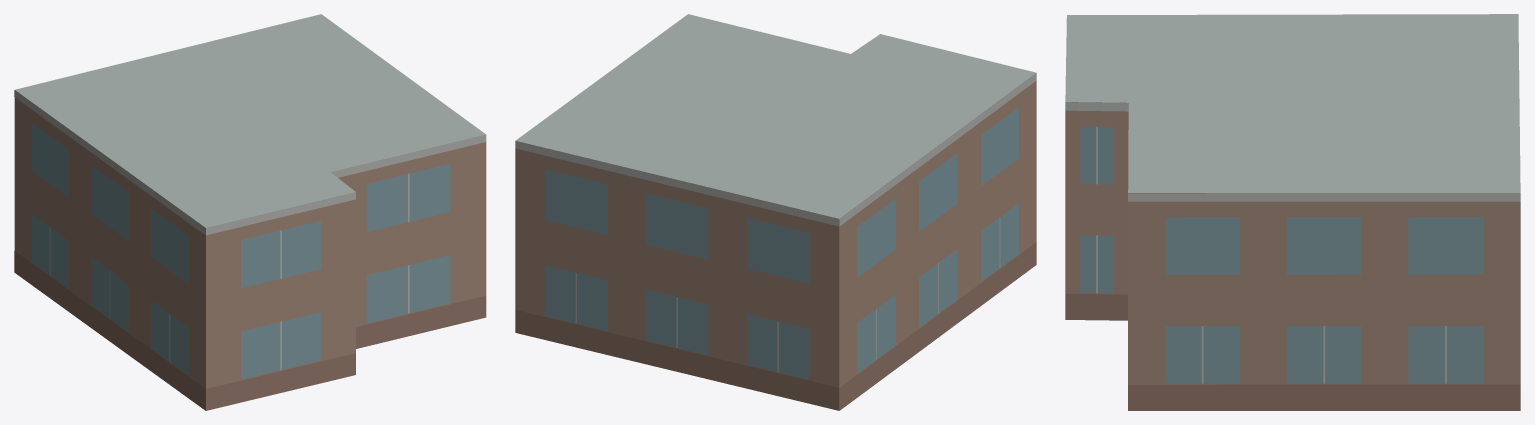
The model's file is survey-upis-32815221.glb.
3 renders of one model, left to right at view 1: azimuth 30°, elevation 25°; view 2: azimuth 150°, elevation 25°; view 3: azimuth 270°, elevation 25°, orthographic. The views are drawn at different scales.
Parts seen in each view (by area): view 1: survey-upis-32815221.tmp; view 2: survey-upis-32815221.tmp; view 3: survey-upis-32815221.tmp.
Boxes of the visible parts, x1,y1,x2,y2 form: survey-upis-32815221.tmp: (14, 14, 486, 410); survey-upis-32815221.tmp: (515, 14, 1036, 410); survey-upis-32815221.tmp: (1065, 14, 1520, 410).
Size of the model in its own units: 10.76 by 6.1 by 11.57.
